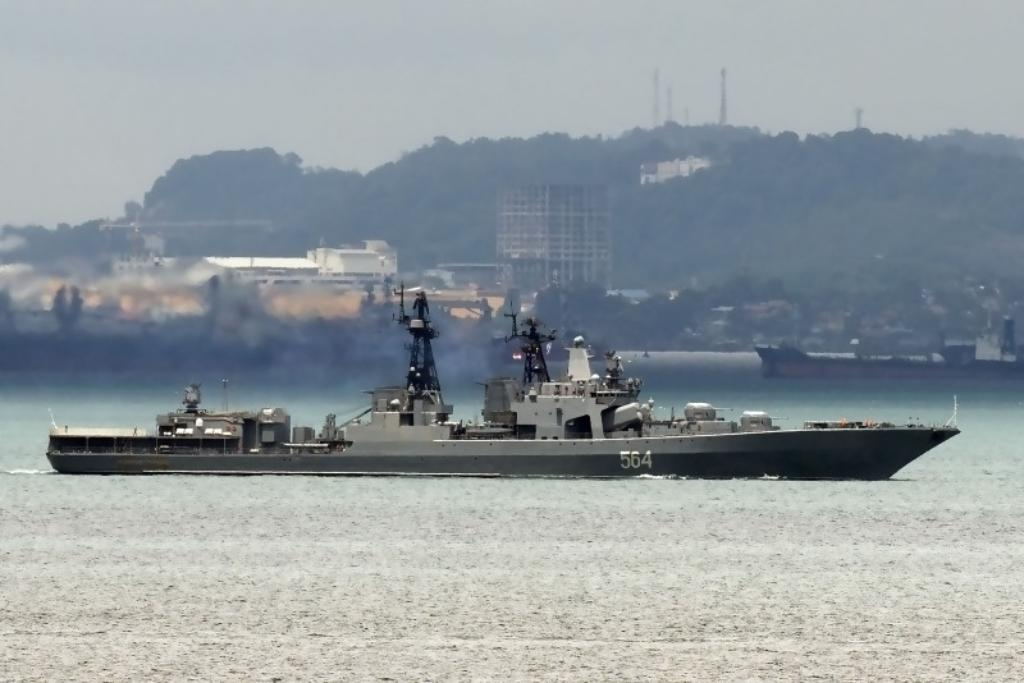Warship: (44, 276, 962, 486)
